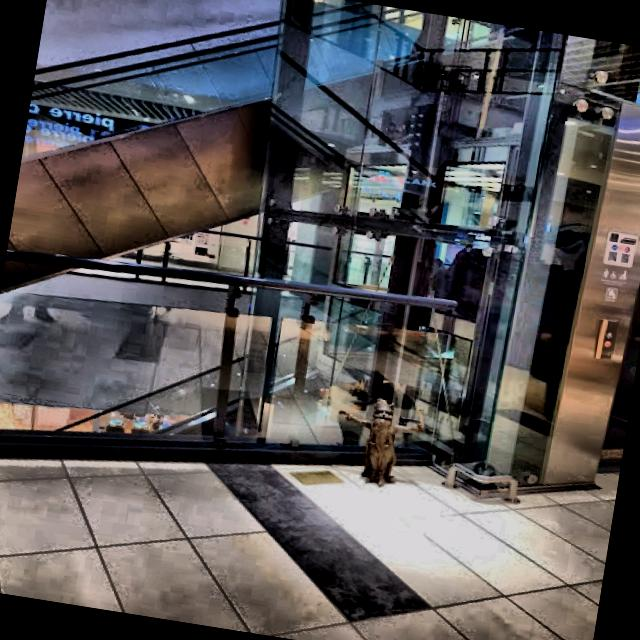Serdecznis: (339, 398, 424, 486)
